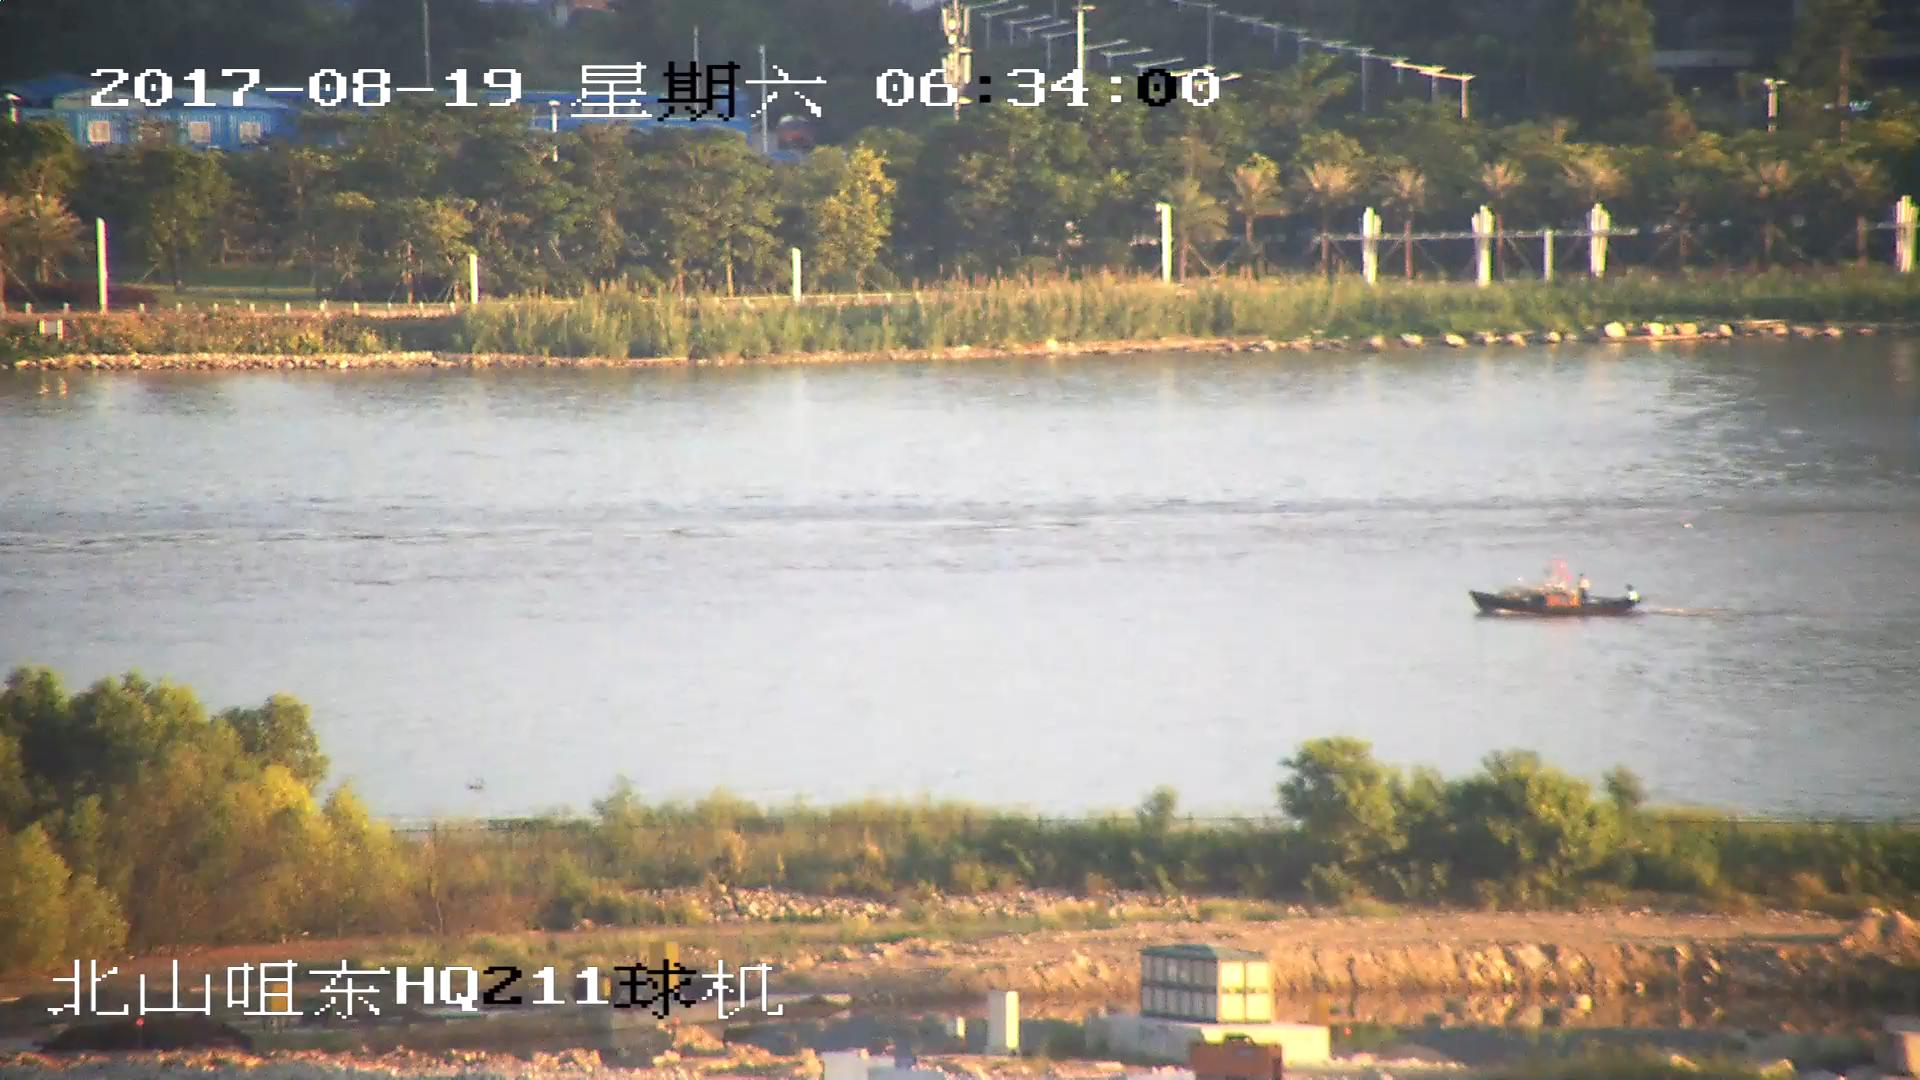fishing boat: (1472, 567, 1641, 624)
